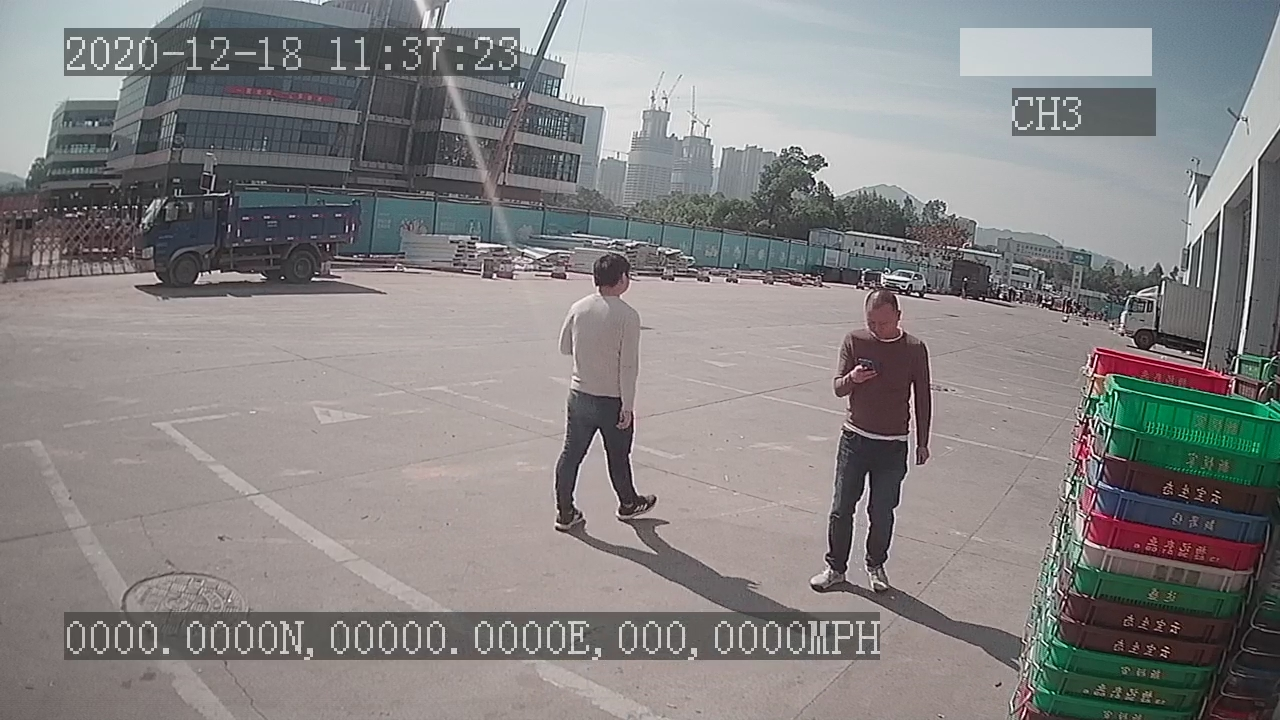person: (805, 286, 933, 598), (556, 249, 657, 527)
